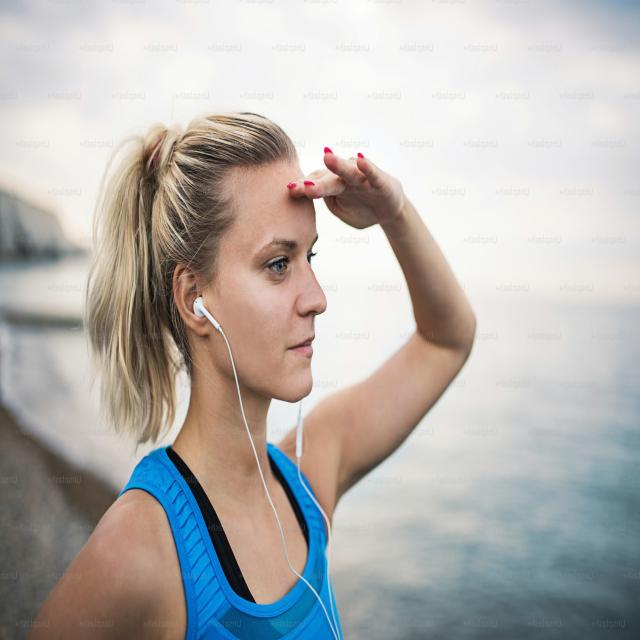adult: (31, 114, 478, 640)
